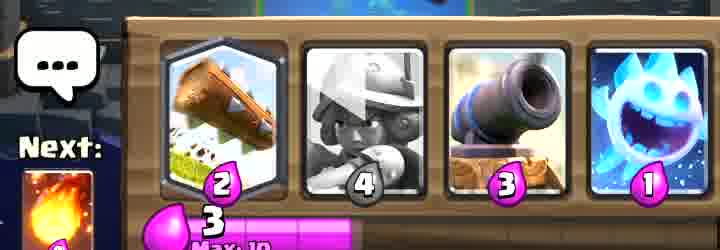cannon: (447, 53, 556, 200)
fireball: (25, 172, 93, 250)
ice-spirit: (595, 46, 710, 200)
log: (169, 43, 280, 183)
